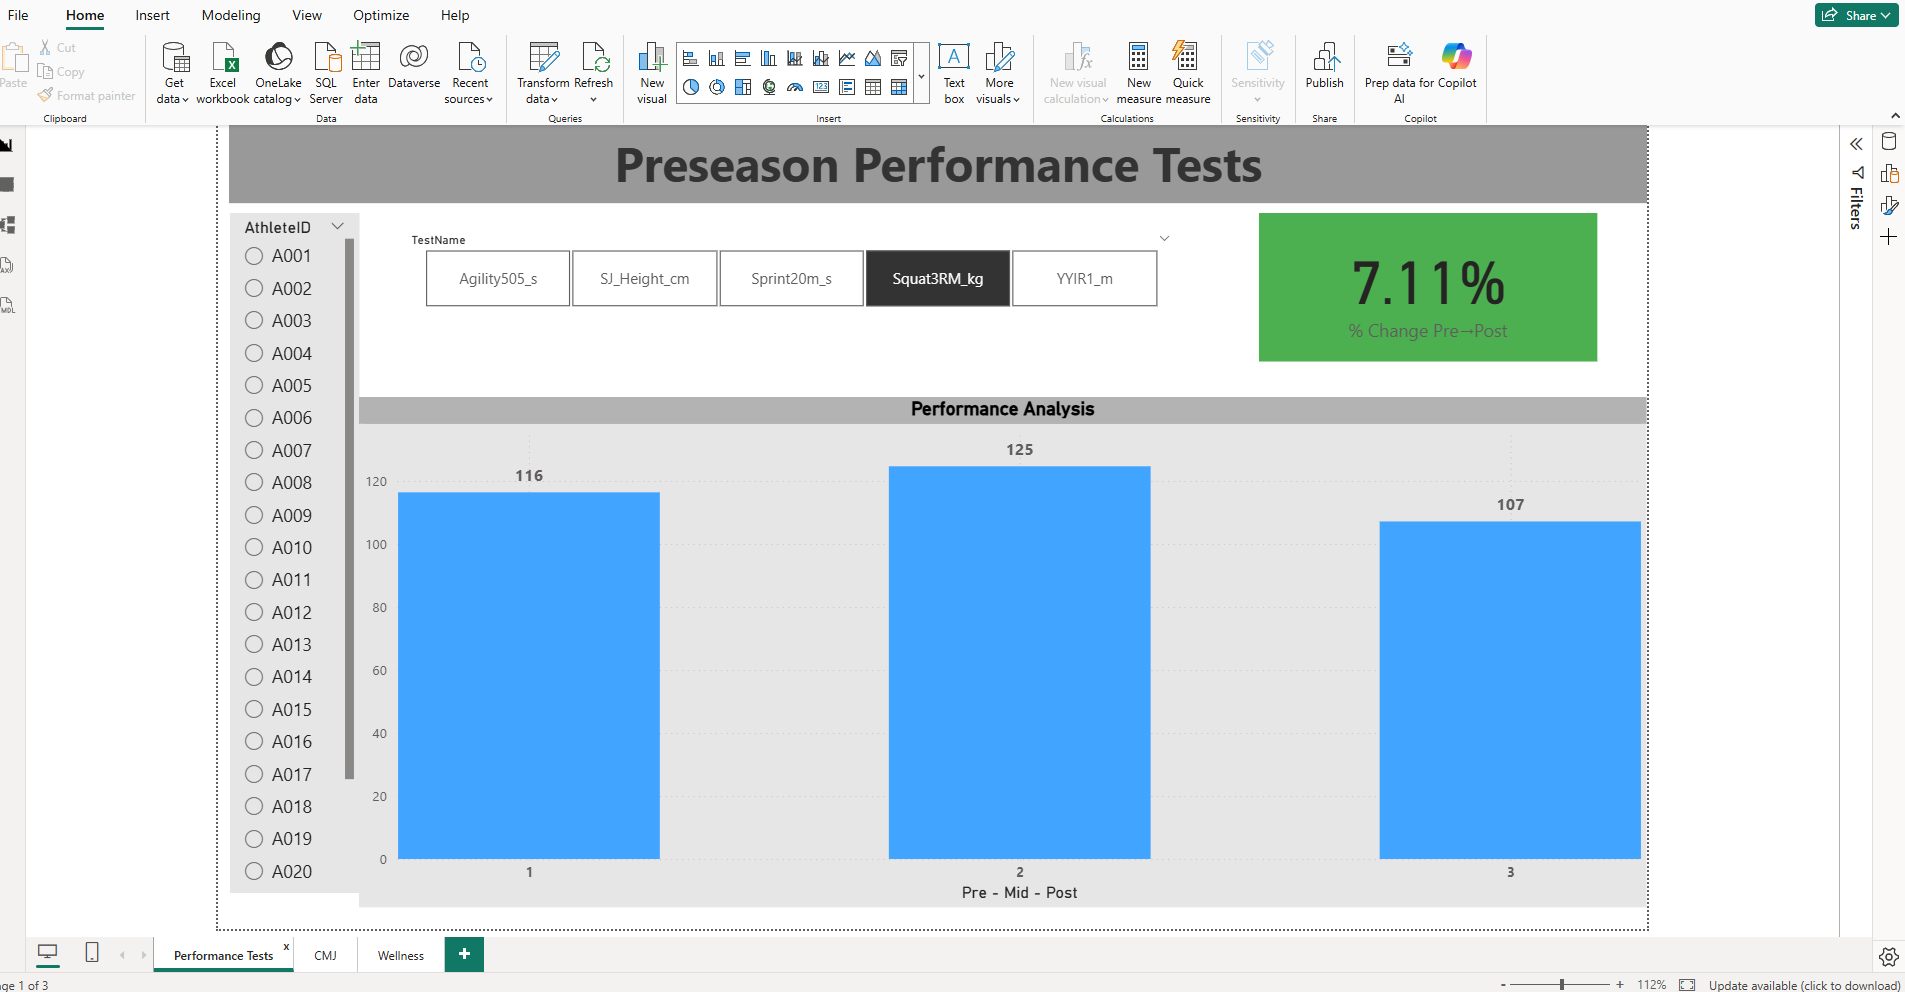

This screenshot's page, from the dashboard's own definition file:
{"tool":"powerbi","page":{"name":"Performance Tests","canvas":[1280,720],"ordinal":0},"visuals":[{"type":"textbox","box":[9.7,0,1270.3,70],"z":0},{"type":"slicer","fields":{"Values":["PerformanceTests.AthleteID"]},"box":[10.7,78.8,115.5,609],"z":1000},{"type":"columnChart","title":"Performance Analysis","fields":{"Y":["Athlete.Test Value"],"Category":["PerformanceTests.BatterySort"]},"box":[126.3,243.6,1153.4,456.7],"z":2000},{"type":"slicer","fields":{"Values":["PerformanceTests.TestName"]},"box":[160.3,91.3,704.8,77.9],"z":3000},{"type":"card","fields":{"Values":["tCMJ_Weekly.% Change Pre→Post"]},"box":[932.2,78.8,302.7,132.5],"z":4000}]}

Visuals, with their boxes on the page's 1280x720 design canvas (x1, y1, x2, y2). These are canvas units, not pixel positions in the 1905x992 screenshot, which may show the page scaled, cropped or inside an application window:
textbox: Rect(10, 0, 1280, 70)
slicer - PerformanceTests.AthleteID: Rect(11, 79, 126, 688)
"Performance Analysis" columnChart: Rect(126, 244, 1280, 700)
slicer - PerformanceTests.TestName: Rect(160, 91, 865, 169)
card - tCMJ_Weekly.% Change Pre→Post: Rect(932, 79, 1235, 211)
